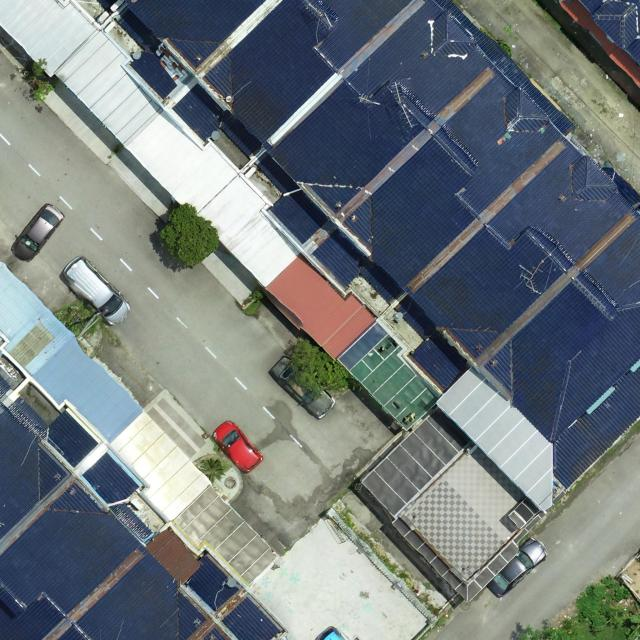Tree: (159, 202, 220, 270), (290, 336, 350, 392), (576, 582, 640, 633)
